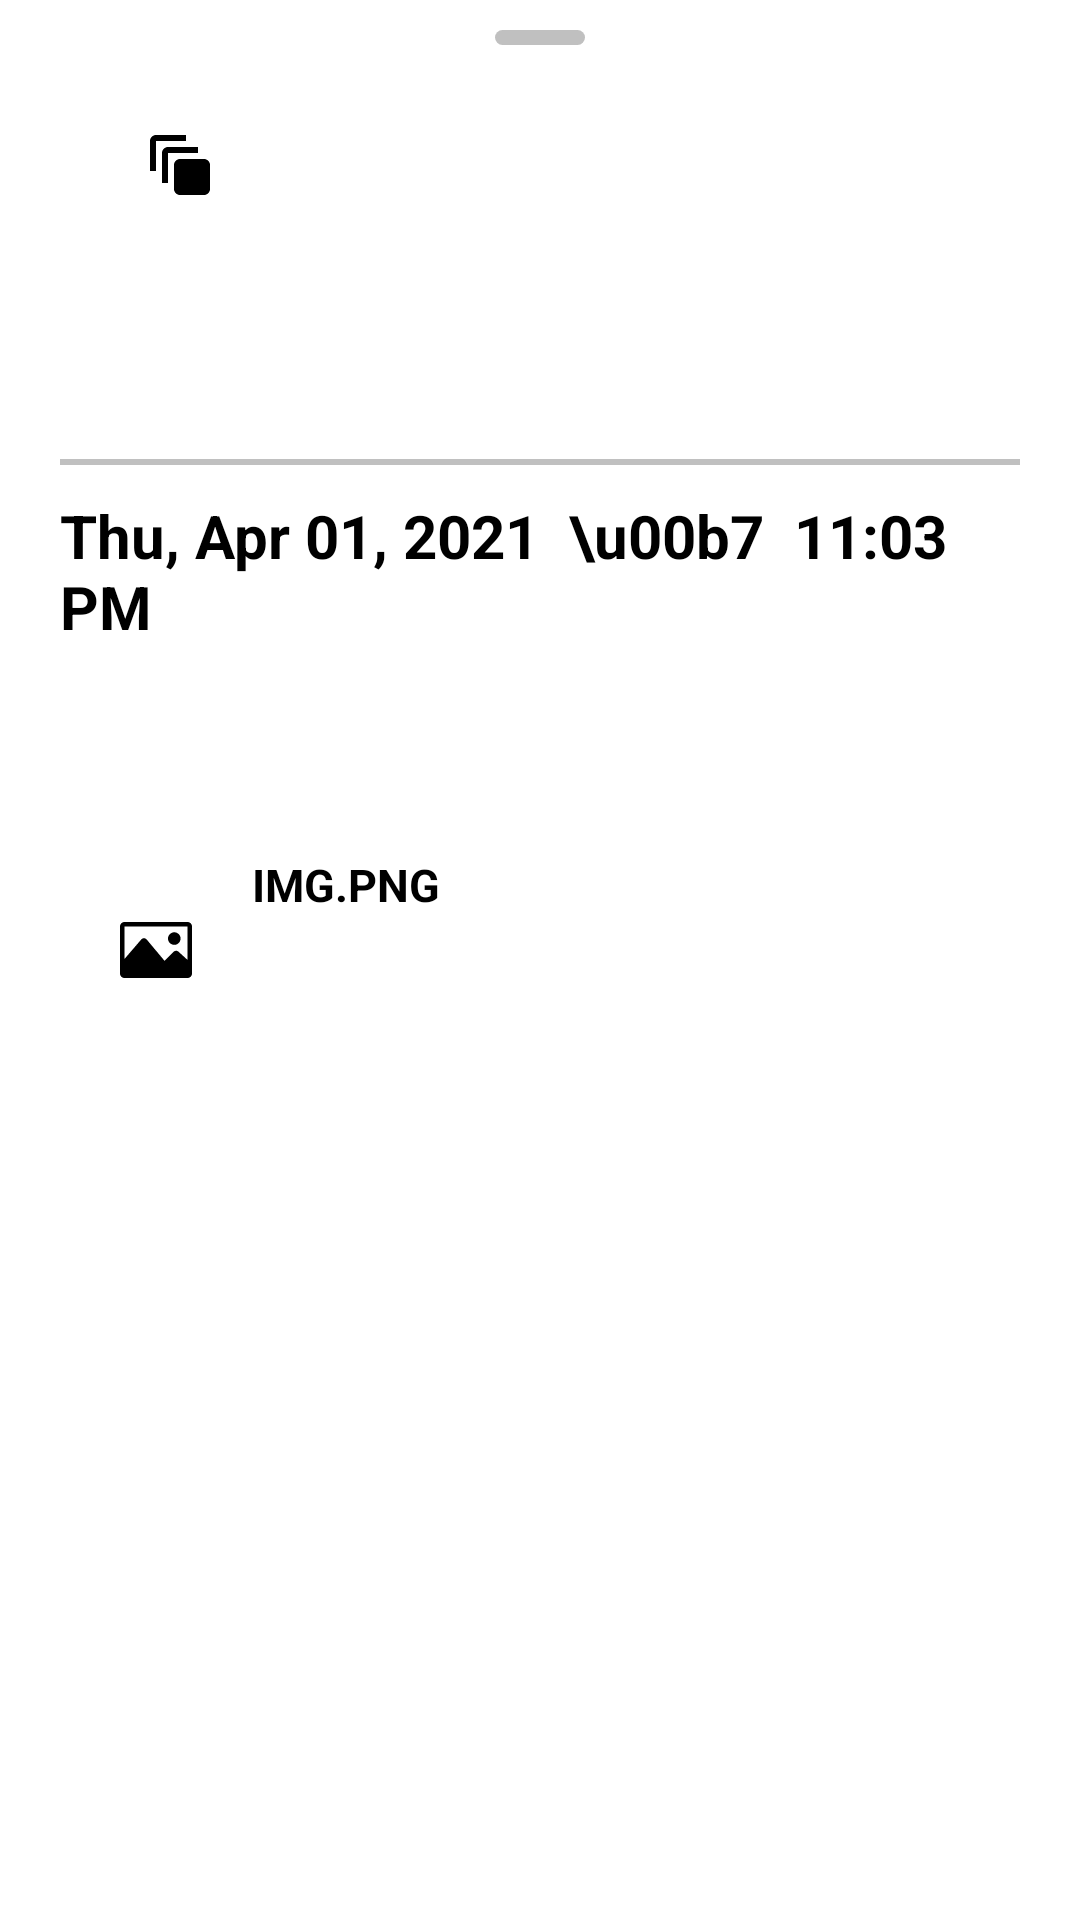

Screen size 1080*1920. Icon name, then its box in pixels as (x1, y1, x2, y2):
photo: (120, 922, 192, 978)
